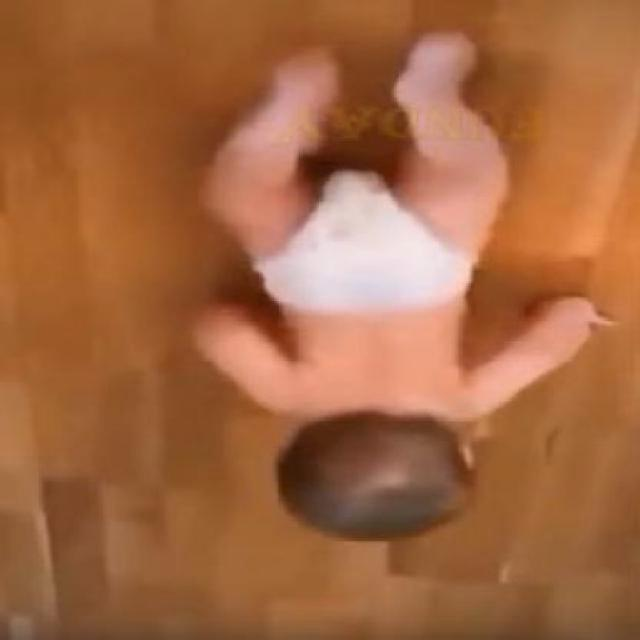child: (195, 35, 618, 543)
